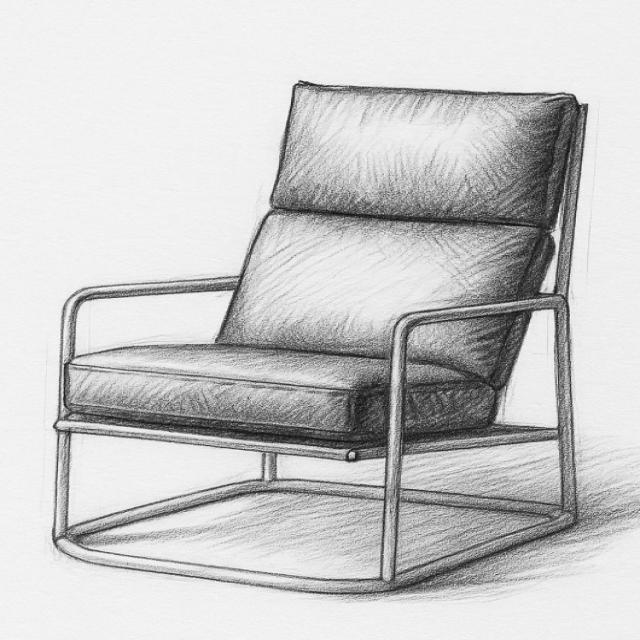Armrest: (387, 295, 575, 456), (57, 275, 241, 417)
Backrest: (209, 81, 583, 394)
Leg_Structure: (50, 427, 579, 596)
Seat: (65, 342, 501, 448)
